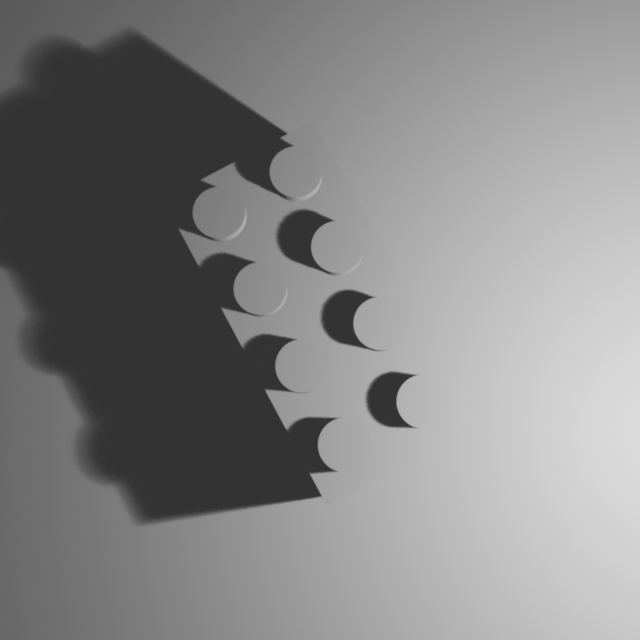lego_2x4: (160, 115, 485, 507)
